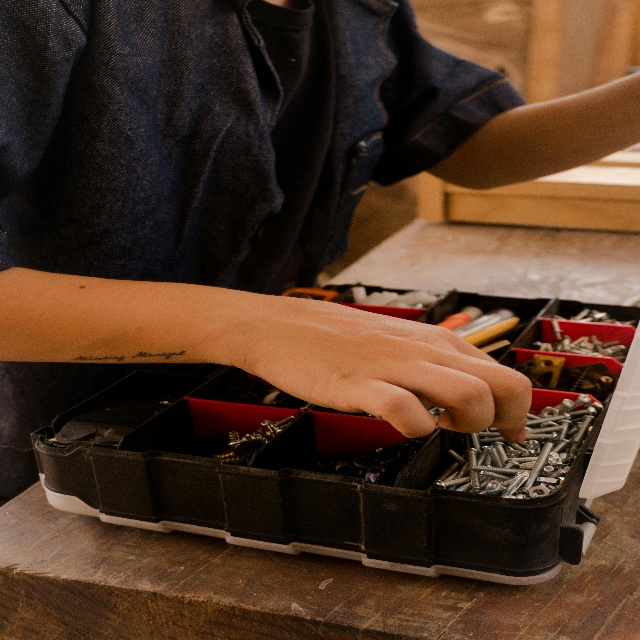Sin_guantes: (255, 297, 533, 444)
